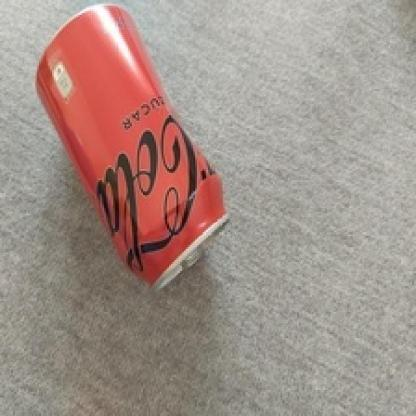Can: (35, 5, 228, 292)
